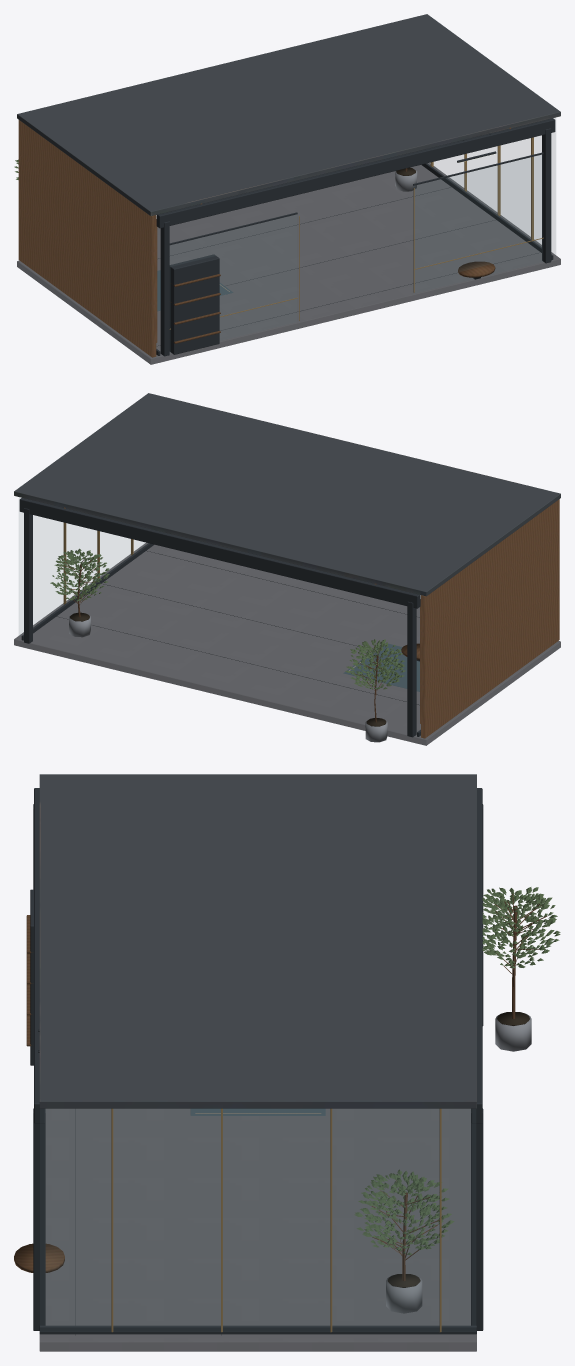
Rendered from environment-1.glb.
3 views of the same model, one above another, from view 1: azimuth 30°, elevation 25°; view 2: azimuth 150°, elevation 25°; view 3: azimuth 270°, elevation 25° (orthographic). The views are drawn at different scales.
Visible parts, largest first — view 1: Continuous floor slab; view 2: Continuous floor slab; view 3: Continuous floor slab.
Part boxes in pixels (box(x1,y1,x2,y2)): Continuous floor slab: box(14, 14, 560, 364); Continuous floor slab: box(14, 393, 560, 745); Continuous floor slab: box(14, 774, 560, 1351).
Size of the model in its own units: 17 by 6.06 by 12.
14 materials, 5 textured.
